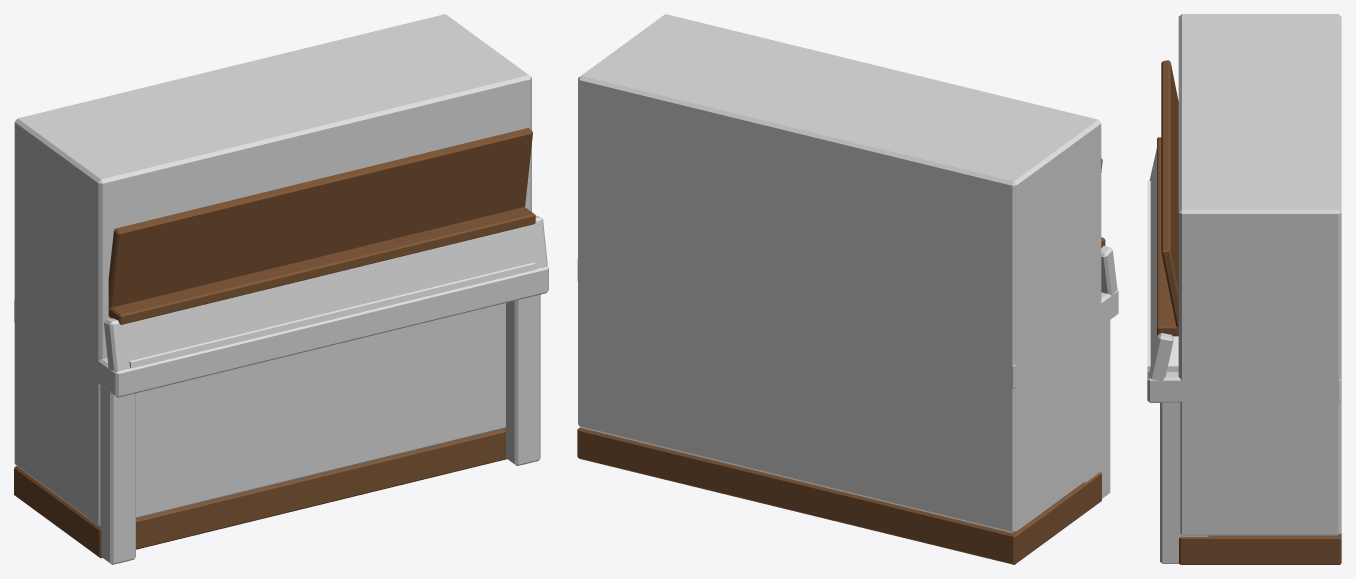
The model's file is piano-upright.glb.
The picture shows the model from 3 angles, left to right: view 1: azimuth 30°, elevation 25°; view 2: azimuth 150°, elevation 25°; view 3: azimuth 270°, elevation 25°; orthographic projection. The views are drawn at different scales.
Visible parts, largest first — view 1: piano-upright.tint, piano-upright.woodDark, piano-upright.ceramic; view 2: piano-upright.tint, piano-upright.woodDark; view 3: piano-upright.tint, piano-upright.woodDark, piano-upright.ceramic.
Part boxes in pixels (box(x1,y1,x2,y2)): piano-upright.tint: box(14, 14, 548, 564); piano-upright.woodDark: box(14, 128, 535, 558); piano-upright.ceramic: box(129, 262, 535, 368); piano-upright.tint: box(577, 14, 1118, 533); piano-upright.woodDark: box(577, 158, 1105, 564); piano-upright.tint: box(1147, 14, 1341, 563); piano-upright.woodDark: box(1157, 60, 1341, 564); piano-upright.ceramic: box(1147, 181, 1178, 371).
Size of the model in its own units: 1.5 by 1.25 by 0.62.
